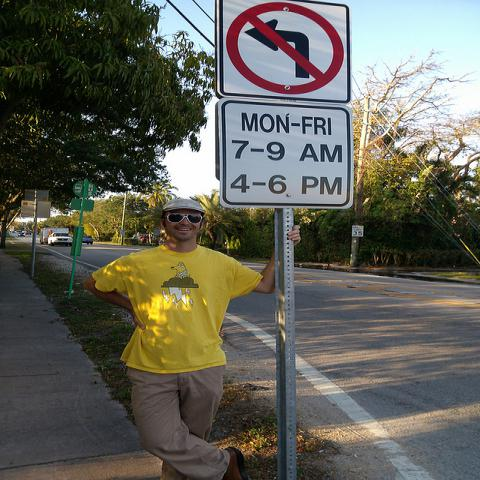car: (47, 232, 72, 248), (138, 236, 160, 243), (82, 234, 95, 244), (17, 233, 24, 237), (26, 232, 31, 234)
truck: (39, 227, 69, 244)
